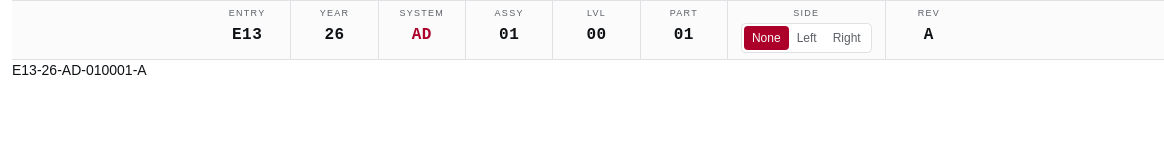
Test: ControlledIdentifier › changes side without renumbering and preserves it through number and revision edits
Click the button "Left". click: (807, 38)
box: [789,26,825,50]
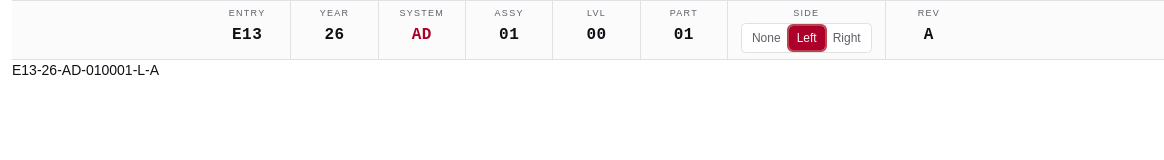
Check: the text "E13-26-AD-010001-L-A" is shown, box [12,62,159,78]
Replace the text in the field named "Part number segment" with "02". click: (684, 34)
box: [664,22,704,46]
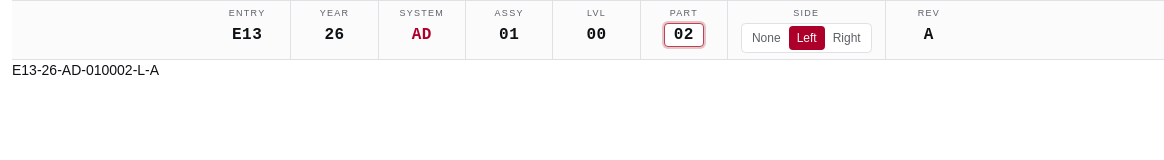
Replace the text in the field named "Revision segment" with "B". click: (929, 34)
box: [909,22,949,46]
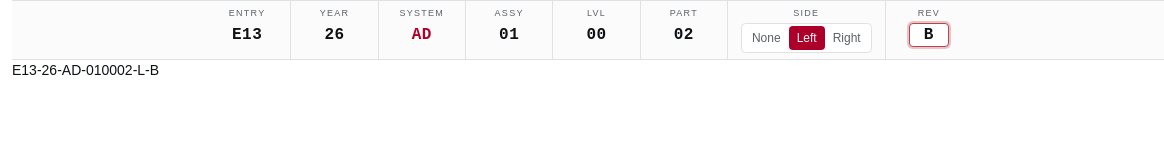
Check: the text "E13-26-AD-010002-L-B" is shown, box [12,62,159,78]
Click the button "Right". click: (847, 38)
box: [825,26,869,50]
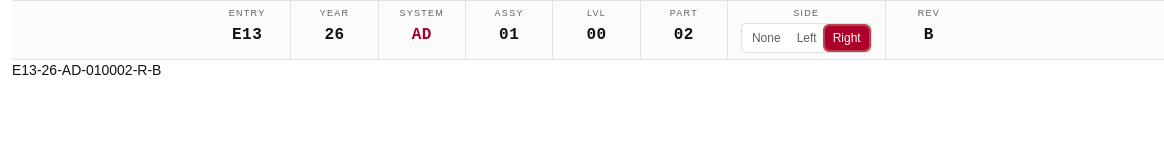
Check: the text "E13-26-AD-010002-R-B" is shown, box [12,62,161,78]
Click the button "None". click: (766, 38)
box: [744,26,789,50]
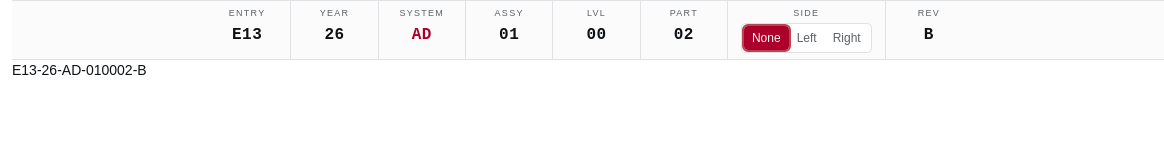
Check: the text "E13-26-AD-010002-B" is shown, box [12,62,147,78]
